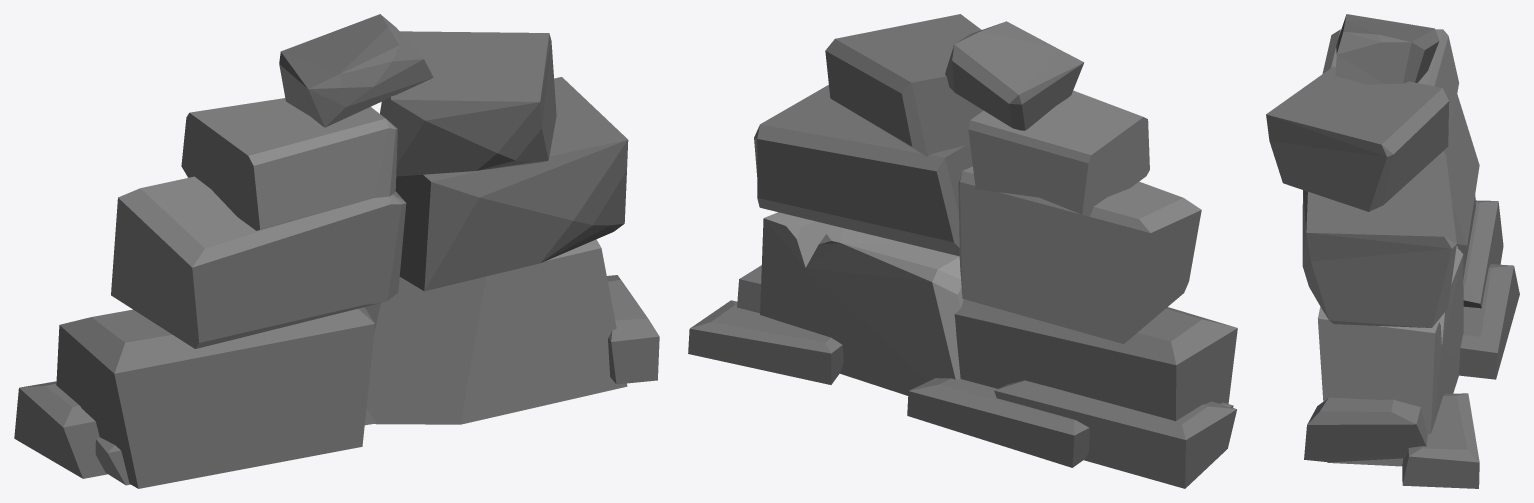
Rendered from EM_rock_fence4.fbx.
The picture shows the model from 3 angles, left to right: view 1: azimuth 30°, elevation 25°; view 2: azimuth 150°, elevation 25°; view 3: azimuth 270°, elevation 25°; orthographic projection. The views are drawn at different scales.
Visible parts, largest first — view 1: EM_rock_fence4_LOD0; view 2: EM_rock_fence4_LOD0; view 3: EM_rock_fence4_LOD0.
Part boxes in pixels (left/top/right/bottom): EM_rock_fence4_LOD0: left=14, top=14, right=659, bottom=488; EM_rock_fence4_LOD0: left=688, top=14, right=1237, bottom=488; EM_rock_fence4_LOD0: left=1266, top=14, right=1519, bottom=488.
Size of what is drawn, in the model's own units: 1.81 by 1.17 by 0.7888.
